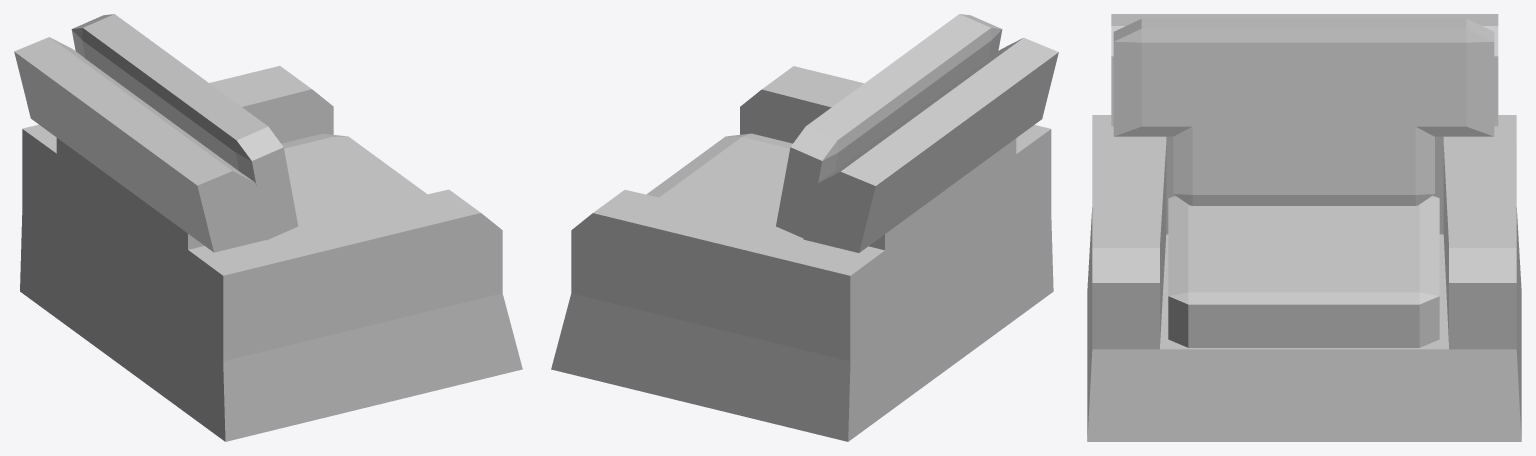
The model's file is Sofa.glb.
3 views of the same model, side by side, from view 1: azimuth 30°, elevation 25°; view 2: azimuth 150°, elevation 25°; view 3: azimuth 270°, elevation 25° (orthographic). The views are drawn at different scales.
Visible parts, largest first — view 1: Sofa; view 2: Sofa; view 3: Sofa.
Part boxes in pixels (left/top/right/bottom): Sofa: left=14, top=14, right=522, bottom=441; Sofa: left=551, top=14, right=1058, bottom=441; Sofa: left=1087, top=14, right=1521, bottom=441.
Bounding box in the file's own units: 0.7369 × 0.6276 × 0.8354.
1 material, 1 textured.
